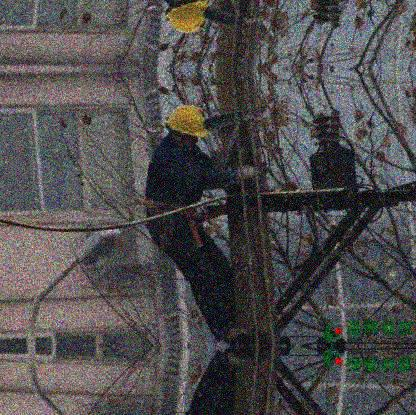helmet: (164, 105, 210, 148)
